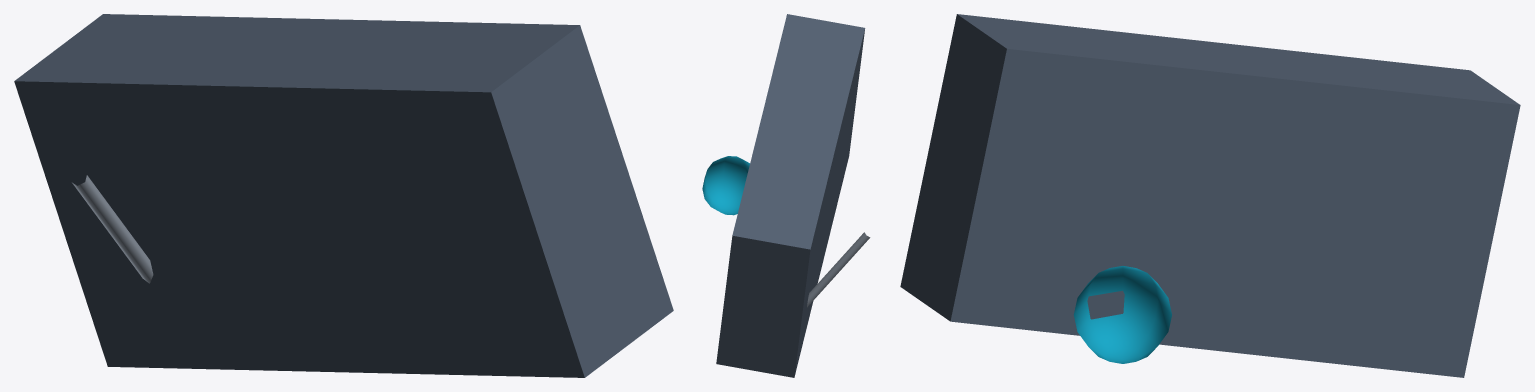
The model's file is storm-chaser-vehicle-wreck.glb.
3 renders of one model, left to right at view 1: azimuth 30°, elevation 25°; view 2: azimuth 150°, elevation 25°; view 3: azimuth 270°, elevation 25°, orthographic. The views are drawn at different scales.
Parts seen in each view (by area): view 1: Root; view 2: Root; view 3: Root.
Part boxes in pixels (x1,y1,x2,y2): Root: [14, 14, 673, 377]; Root: [702, 14, 870, 377]; Root: [900, 14, 1520, 377].
Size of the model in its own units: 3.92 by 4.03 by 5.67.
